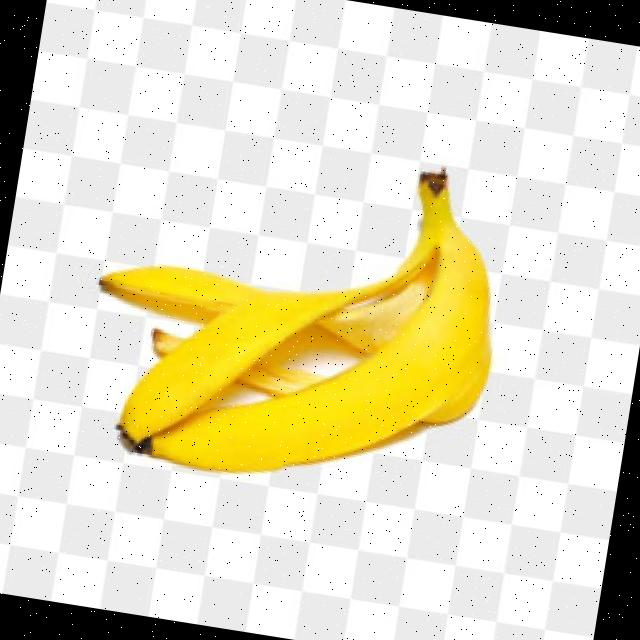banana-peel: (72, 115, 520, 512)
